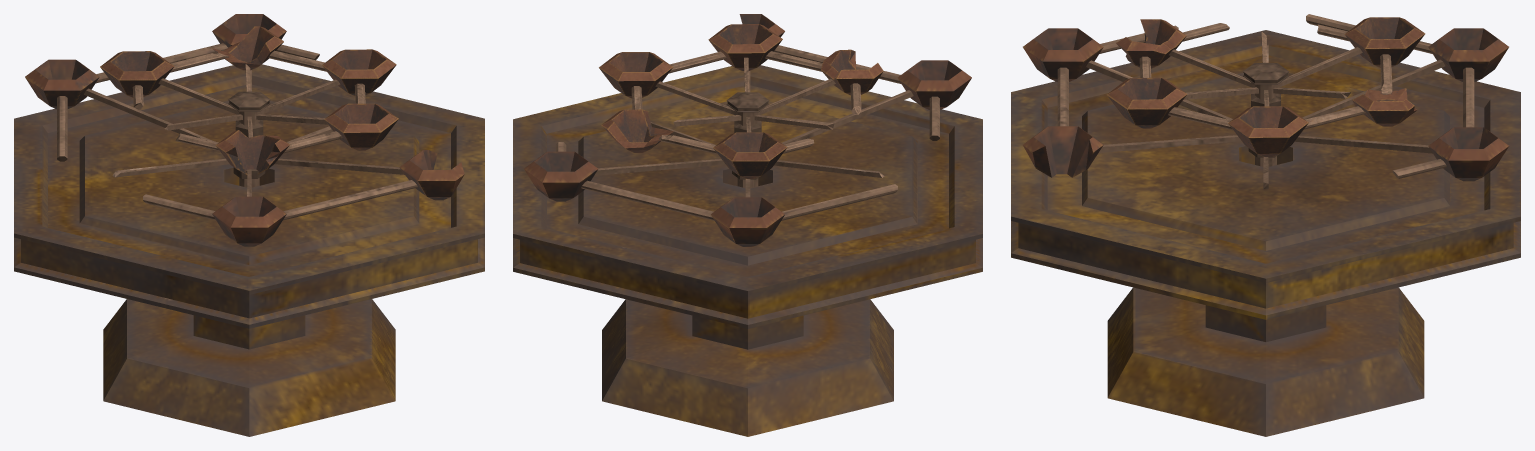
File: Middle puzzle.fbx
3 renders of one model, left to right at view 1: azimuth 30°, elevation 25°; view 2: azimuth 150°, elevation 25°; view 3: azimuth 270°, elevation 25°, orthographic. The views are drawn at different scales.
Parts seen in each view (by area): view 1: Cylinder.003, Cylinder.006, Cylinder.004; view 2: Cylinder.003, Cylinder.006, Cylinder.004; view 3: Cylinder.003, Cylinder.004, Cylinder.006.
Boxes of the visible parts, bbox=[...] form: Cylinder.003: bbox=[14, 64, 484, 436]; Cylinder.006: bbox=[100, 26, 398, 175]; Cylinder.004: bbox=[25, 14, 464, 246]; Cylinder.003: bbox=[513, 65, 982, 436]; Cylinder.006: bbox=[599, 24, 883, 178]; Cylinder.004: bbox=[524, 14, 971, 246]; Cylinder.003: bbox=[1011, 30, 1520, 436]; Cylinder.004: bbox=[1023, 14, 1508, 189]; Cylinder.006: bbox=[1106, 17, 1425, 156].
Bounding box in the file's own units: 258 × 146 × 223.
